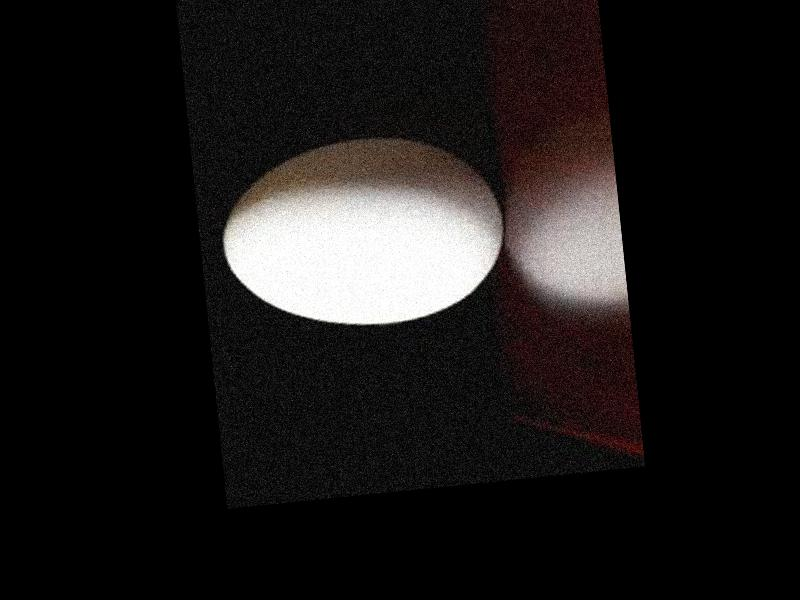Eggs: (215, 128, 512, 338)
